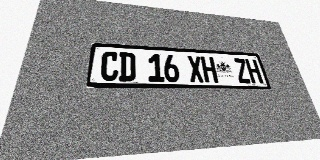1: (147, 54, 164, 82)
6: (163, 54, 180, 82)
C: (100, 51, 119, 81)
D: (118, 52, 135, 81)
H: (200, 56, 218, 83), (245, 59, 263, 83)
X: (187, 56, 205, 83)
Z: (233, 58, 251, 83)
